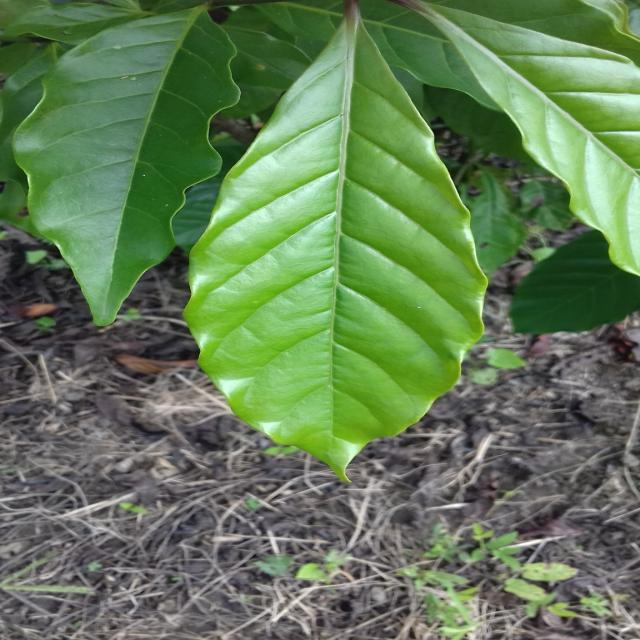Sanas: (182, 21, 488, 482)
